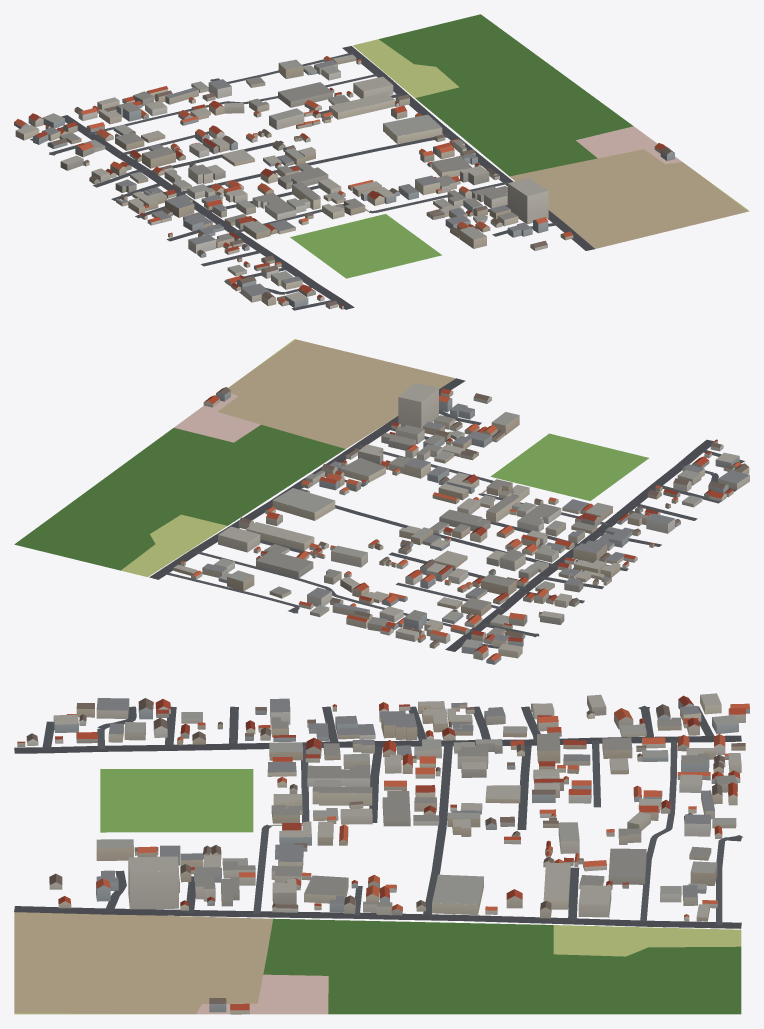
The picture shows the model from 3 angles, top to bottom: view 1: azimuth 30°, elevation 25°; view 2: azimuth 150°, elevation 25°; view 3: azimuth 270°, elevation 25°; orthographic projection. The views are drawn at different scales.
Parts seen in each view (by area): view 1: landuse, buildings_walls, buildings_roofs, roads; view 2: landuse, buildings_walls, buildings_roofs, roads; view 3: landuse, buildings_roofs, buildings_walls, roads.
Part boxes in pixels (<box>): landuse: <box>290,14,749,278</box>; buildings_walls: <box>14,58,674,309</box>; buildings_roofs: <box>14,54,674,306</box>; roads: <box>30,46,594,310</box>; landuse: <box>14,339,648,576</box>; buildings_walls: <box>173,388,749,664</box>; buildings_roofs: <box>174,383,749,661</box>; roads: <box>149,378,744,651</box>; landuse: <box>14,769,741,1014</box>; buildings_roofs: <box>17,693,749,1010</box>; buildings_walls: <box>17,695,749,1014</box>; roads: <box>14,705,742,928</box>.
Bounding box in the file's own units: 509 × 28.79 × 506.
